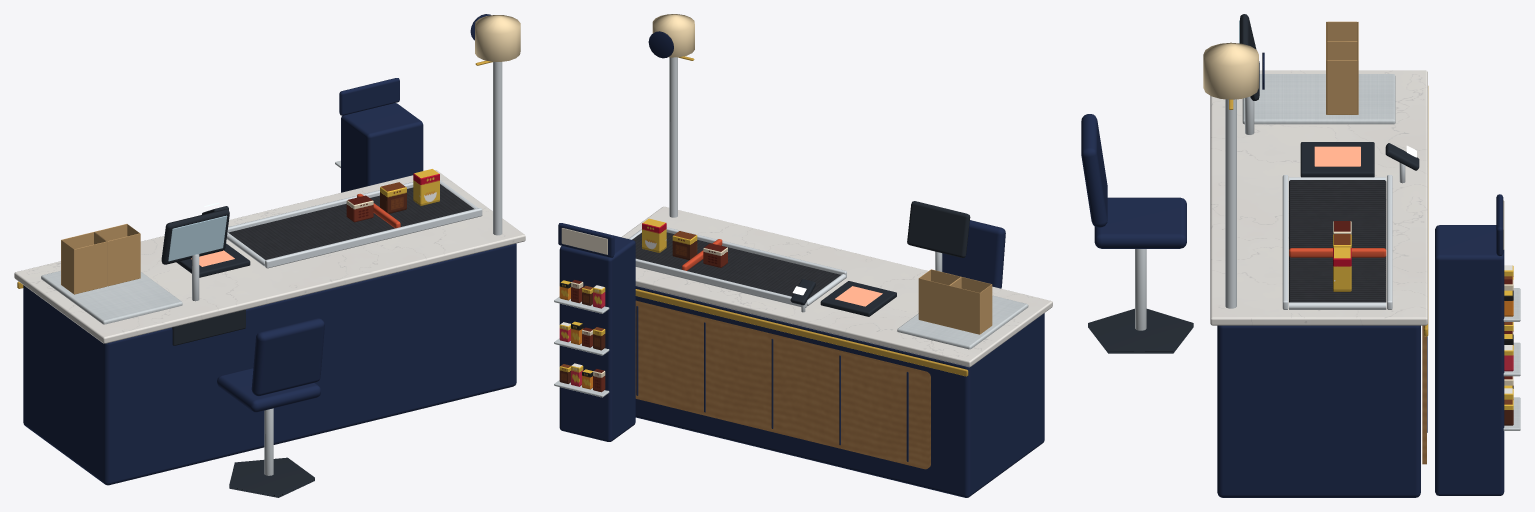
File: checkout_T3.fbx
3 views of the same model, side by side, from view 1: azimuth 30°, elevation 25°; view 2: azimuth 150°, elevation 25°; view 3: azimuth 270°, elevation 25° (orthographic). The views are drawn at different scales.
Parts seen in each view (by area): view 1: Body, Anim Fill 0; view 2: Body, Anim Fill 0; view 3: Body, Anim Fill 0.
Part boxes in pixels (x1,y1,x2,y2): Body: [14, 14, 525, 497]; Anim Fill 0: [346, 169, 439, 222]; Body: [554, 14, 1052, 497]; Anim Fill 0: [559, 218, 727, 392]; Body: [1081, 14, 1520, 497]; Anim Fill 0: [1333, 221, 1513, 425].
Bounding box in the file's own units: 2.55 × 2.12 × 1.9.
